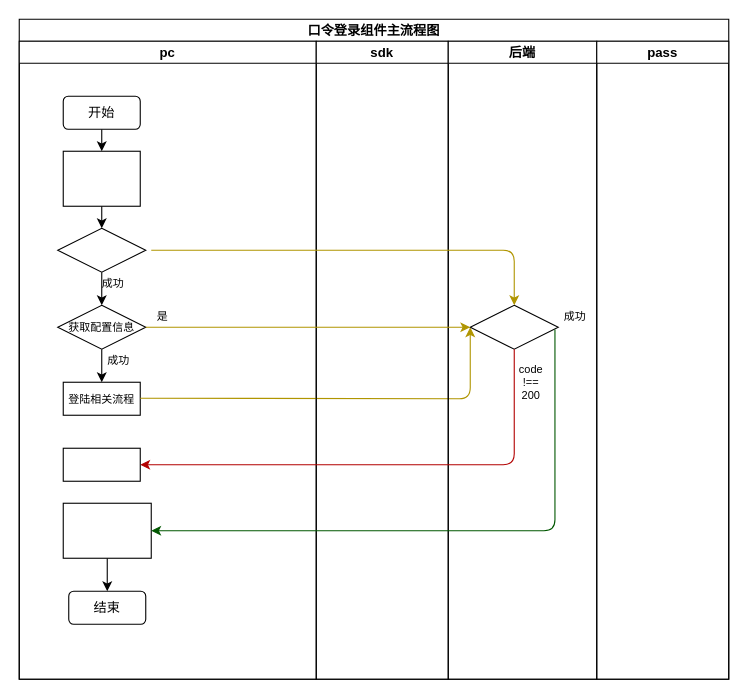
This 748x699 diagram has some shape labels left out. Here are the shapes that lost their labels. From the top down, the centre of each, then its label:
At (101,178): "初始化".
At (101,249): "获取活动信息".
At (513,326): "接口调用:".
At (101,464): "提示失败".
At (106,530): "根据路由里携带的角色参数跳转到发起端直播间".
